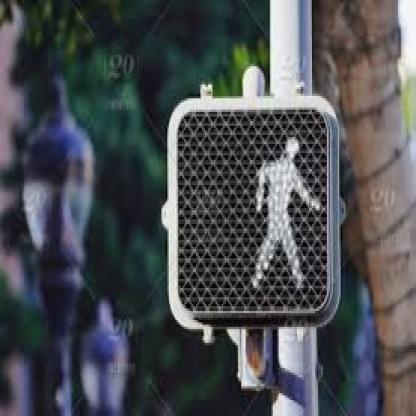Walk: (174, 103, 339, 320)
